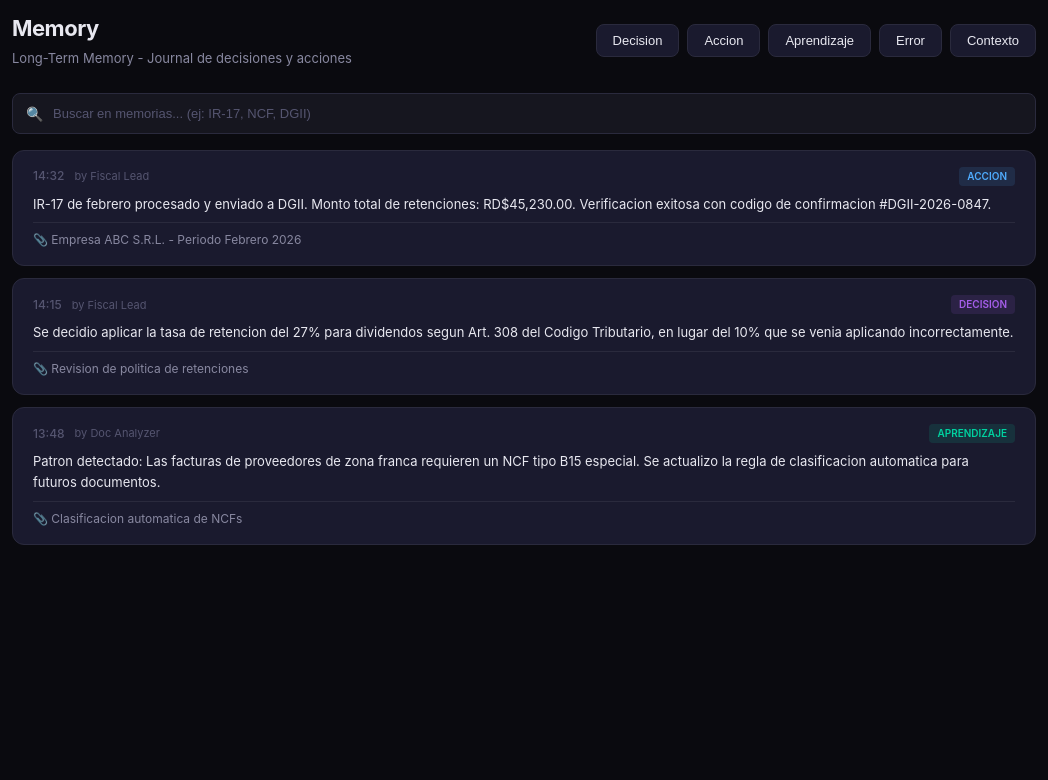
Test case: Memory › filters by search query within active date
The width and height of the screenshot is (1048, 780).
In the field with placeholder "Buscar en memorias... (ej: IR-17, NCF, DGII)": (524, 113) [12, 92, 1036, 134], type "tasa de retencion"
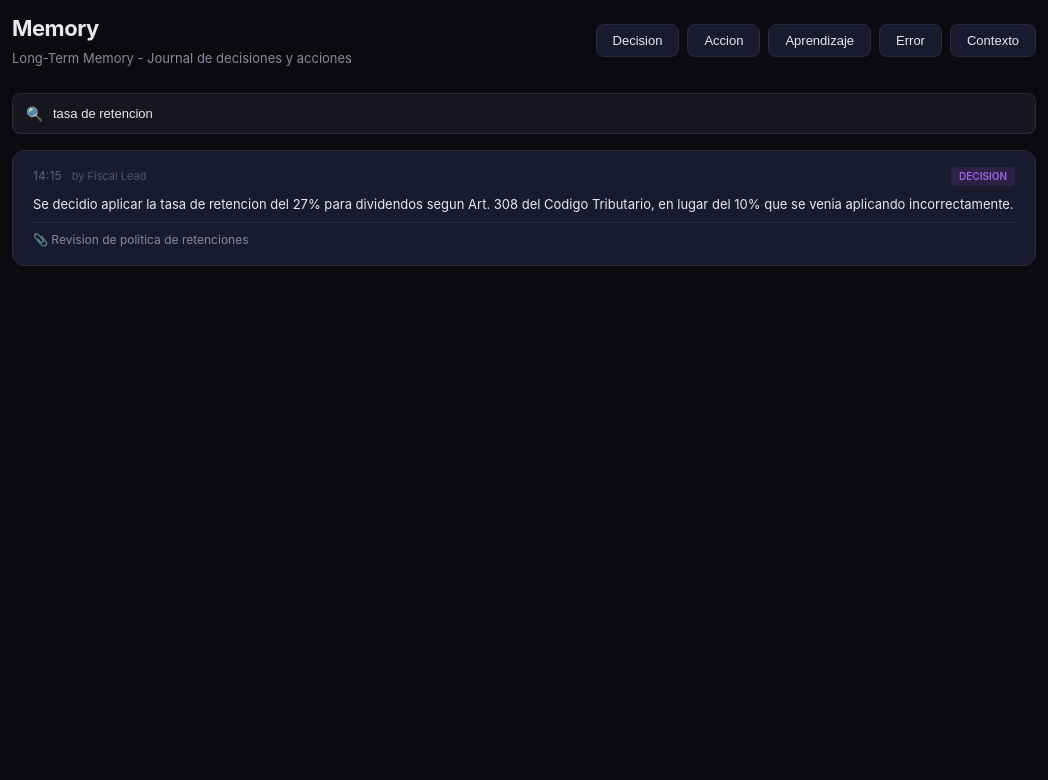
Expected: the text "tasa de retencion del 27%" is shown, [33, 196, 1014, 212]
Now the text "IR-17 de febrero procesado" is gone
